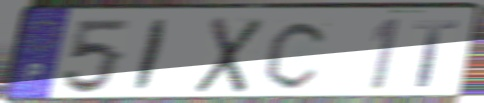1: (369, 15, 402, 92)
5: (61, 17, 136, 96)
C: (261, 18, 333, 92)
I: (129, 17, 173, 95)
T: (411, 18, 460, 89)
X: (191, 15, 268, 97)
